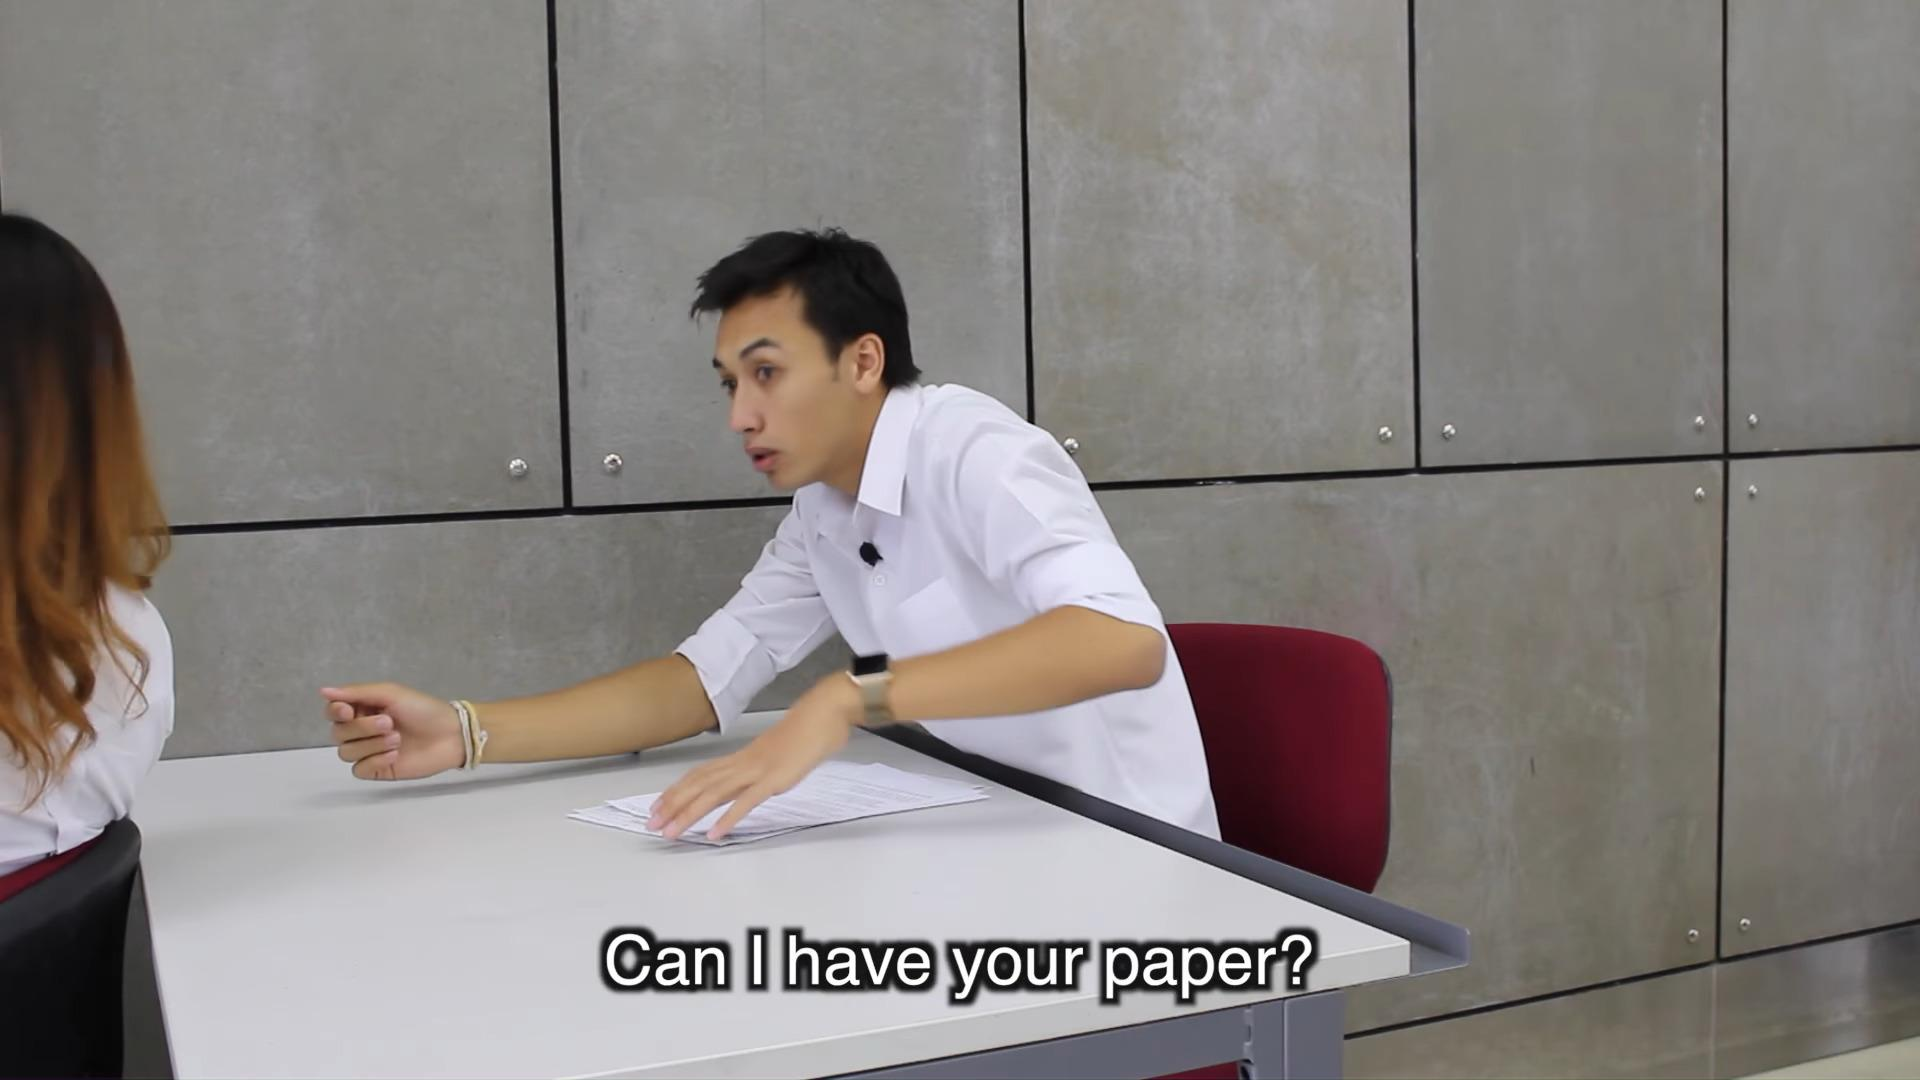cheating: (307, 215, 1247, 907)
